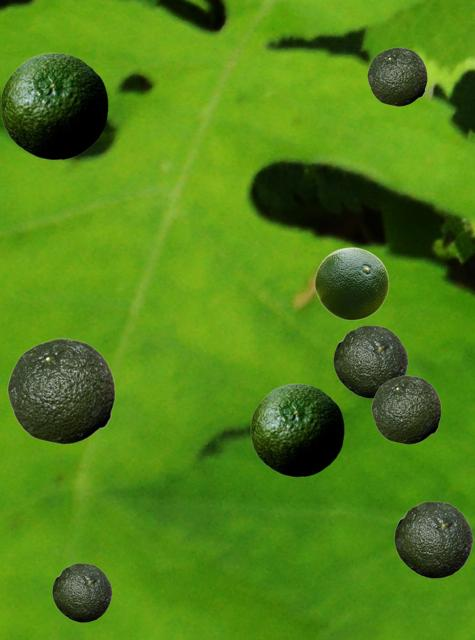calamansi: (0, 52, 107, 159), (7, 338, 114, 443), (250, 383, 343, 476), (394, 501, 472, 577), (333, 325, 407, 397), (314, 247, 388, 319), (371, 375, 440, 443), (367, 47, 426, 105), (52, 563, 111, 621)
